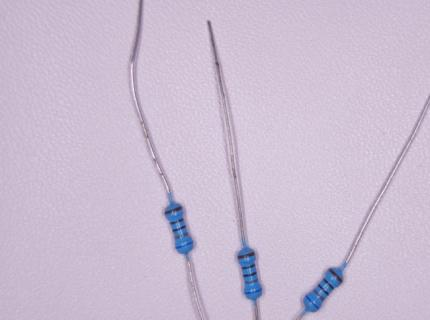Black band: (323, 278, 335, 290), (318, 283, 330, 295), (170, 218, 184, 225), (173, 225, 186, 232), (243, 271, 257, 277), (242, 264, 256, 269)
Blue band: (305, 294, 319, 310), (175, 241, 194, 249), (244, 287, 262, 294)
Brown band: (328, 268, 343, 284), (165, 206, 183, 215), (238, 252, 256, 260)
Grey band: (312, 288, 325, 301), (175, 231, 189, 239), (244, 278, 258, 284)
